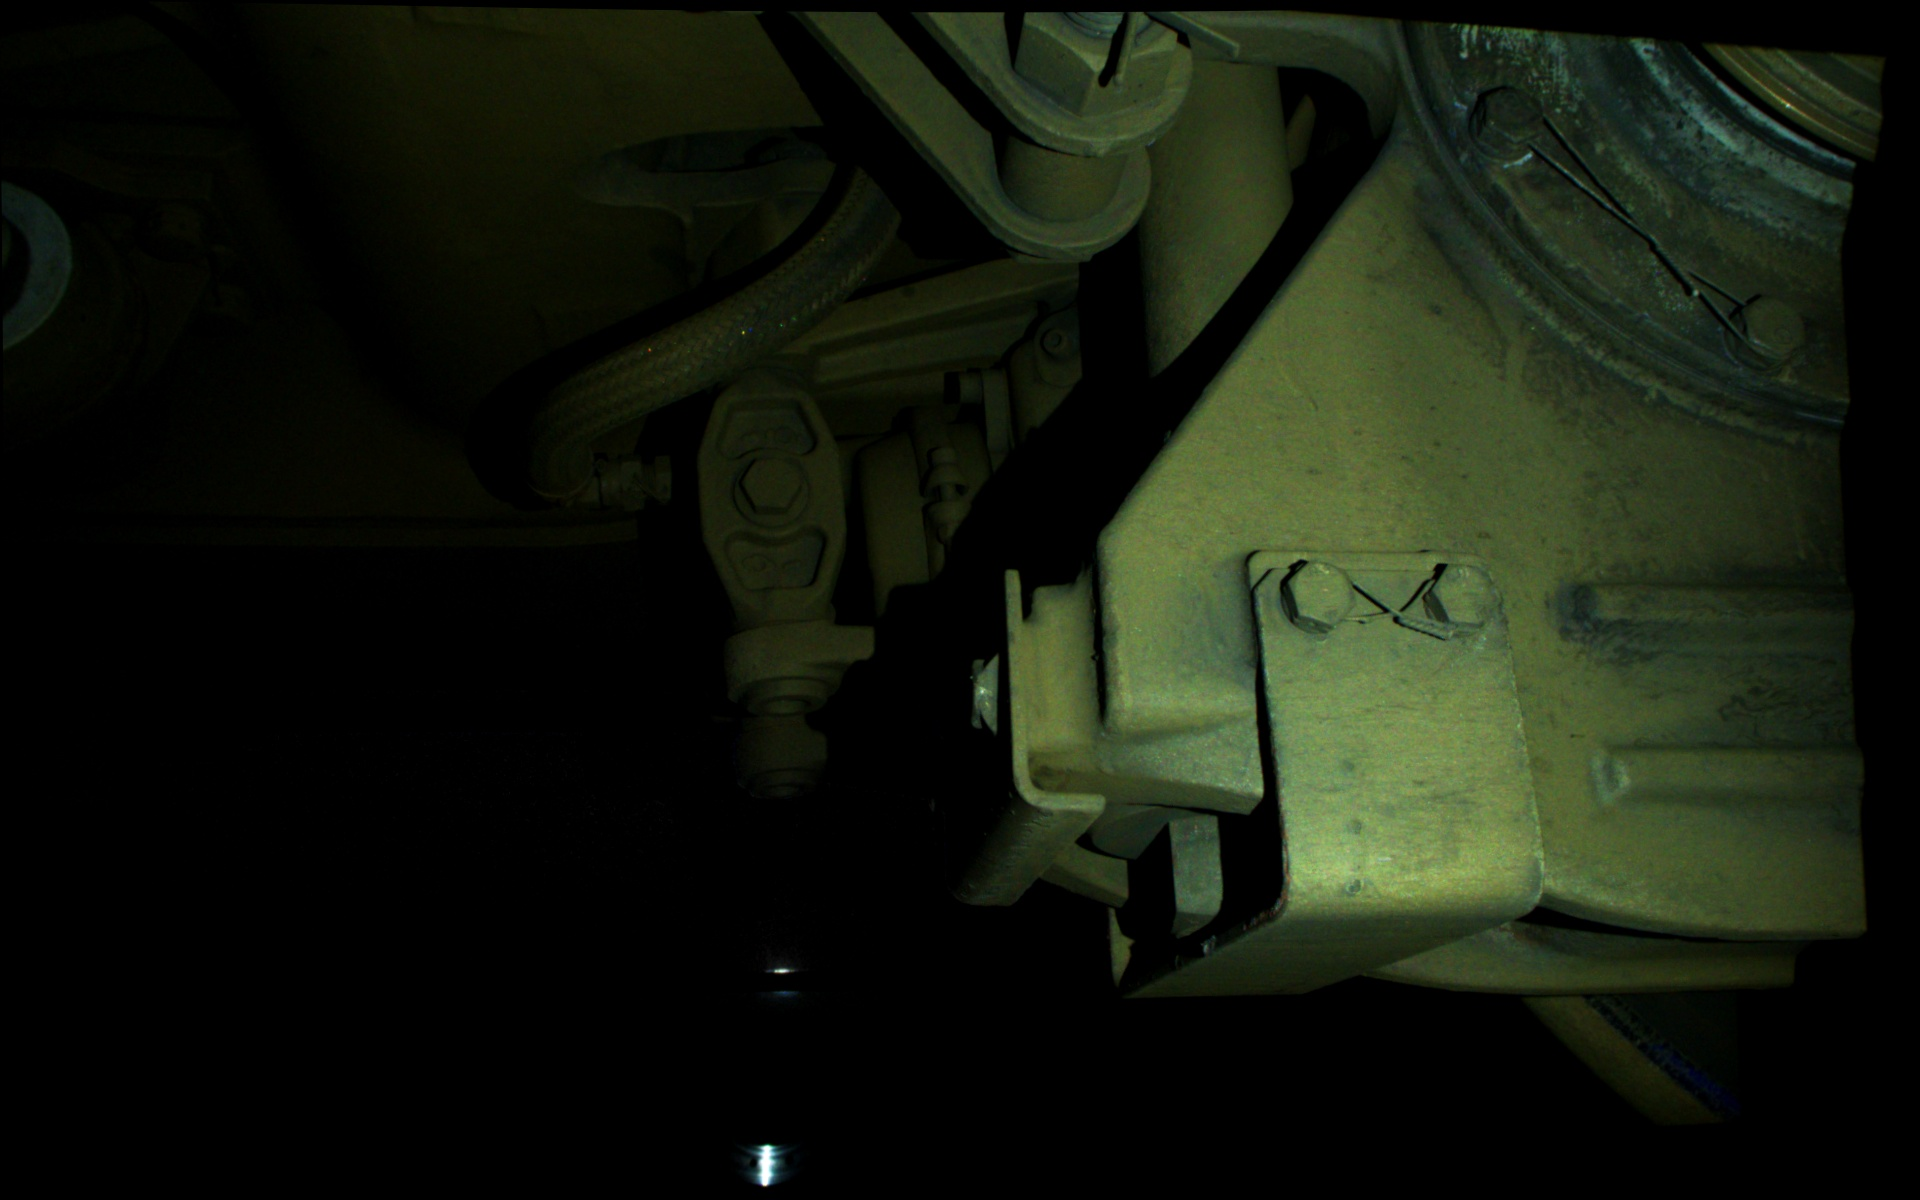bolthead1: (1274, 560, 1360, 635)
bolthead2: (1420, 560, 1503, 636)
